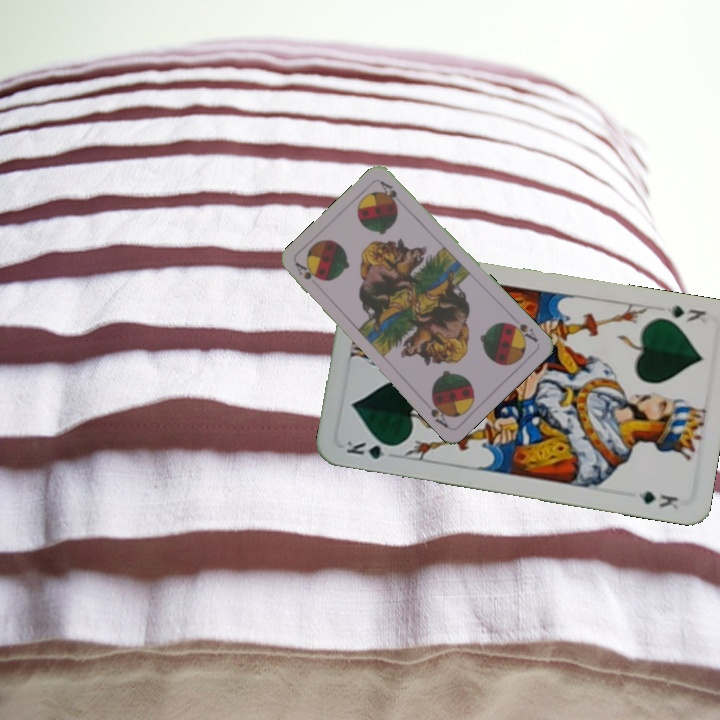GK: (342, 436, 400, 462), (663, 301, 708, 326)
SA: (504, 313, 540, 345), (291, 259, 321, 283)
